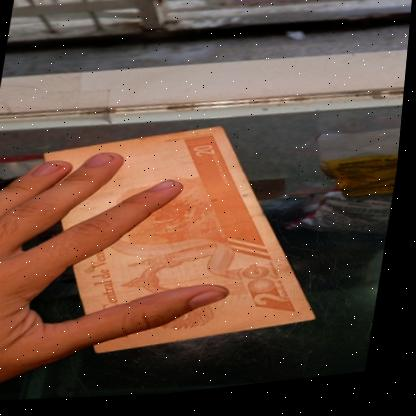vef_back: (16, 107, 352, 380)
